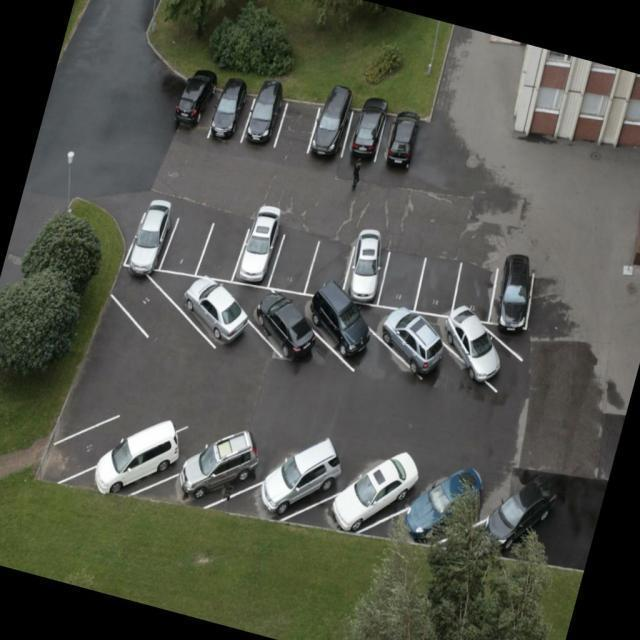space-empty: (96, 257, 205, 357), (48, 401, 161, 491), (372, 242, 435, 315), (199, 211, 254, 290), (306, 227, 360, 305), (162, 207, 216, 284), (411, 252, 466, 323), (446, 253, 499, 323), (270, 228, 322, 298), (270, 99, 322, 164)
space-occupied: (238, 431, 360, 544), (385, 458, 503, 568), (472, 467, 578, 575), (166, 419, 270, 526), (320, 446, 423, 551), (97, 410, 196, 515), (165, 266, 264, 368), (240, 281, 335, 376), (295, 281, 398, 368), (372, 300, 460, 380), (436, 321, 524, 394), (487, 249, 548, 334), (120, 193, 178, 276), (338, 226, 398, 303), (228, 212, 283, 296), (376, 110, 426, 179), (340, 107, 387, 178), (176, 80, 221, 151), (208, 85, 255, 152), (309, 107, 357, 169), (243, 89, 286, 154)
